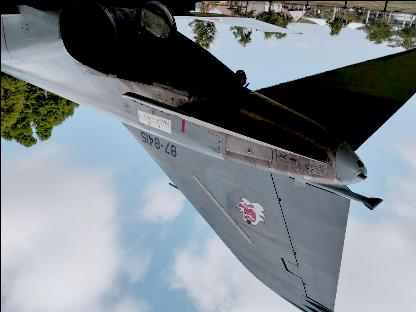F35: (1, 1, 415, 311)
